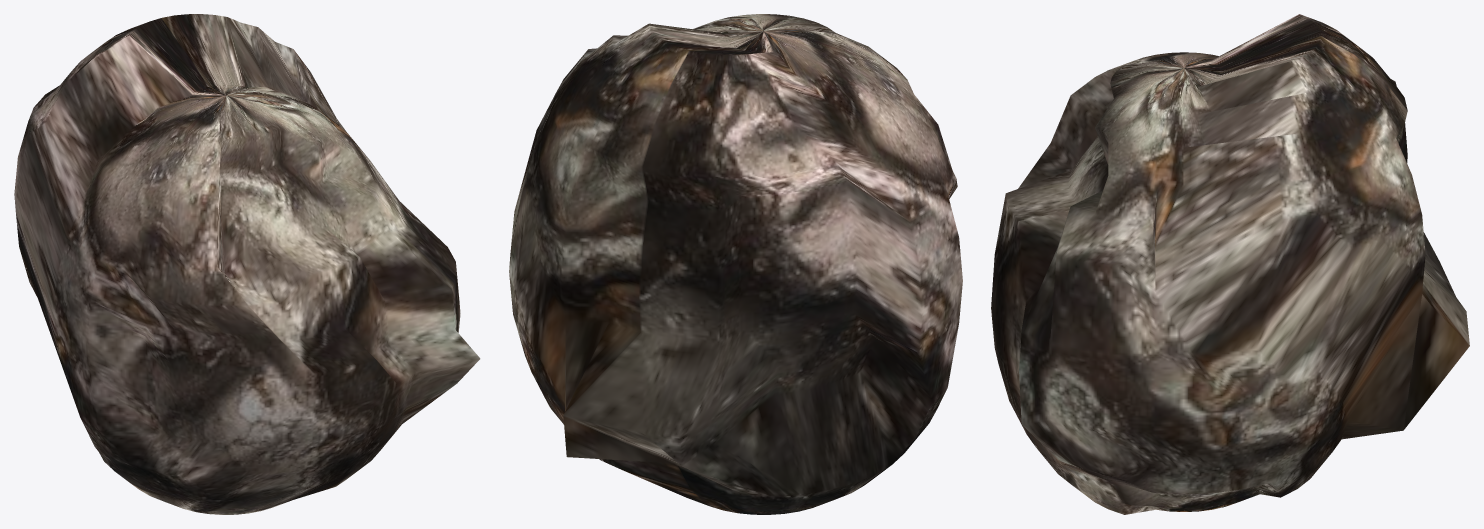
Rendered from MeteoritoObstaculo.fbx.
3 renders of one model, left to right at view 1: azimuth 30°, elevation 25°; view 2: azimuth 150°, elevation 25°; view 3: azimuth 270°, elevation 25°, orthographic. The views are drawn at different scales.
Parts seen in each view (by area): view 1: Sphere001; view 2: Sphere001; view 3: Sphere001.
Boxes of the visible parts, box(x1,y1,x2,y2) form: Sphere001: box(14, 14, 480, 514); Sphere001: box(509, 14, 962, 514); Sphere001: box(991, 14, 1469, 514).
Bounding box in the file's own units: 2.03 × 2.33 × 2.2.
1 material, 1 textured.
